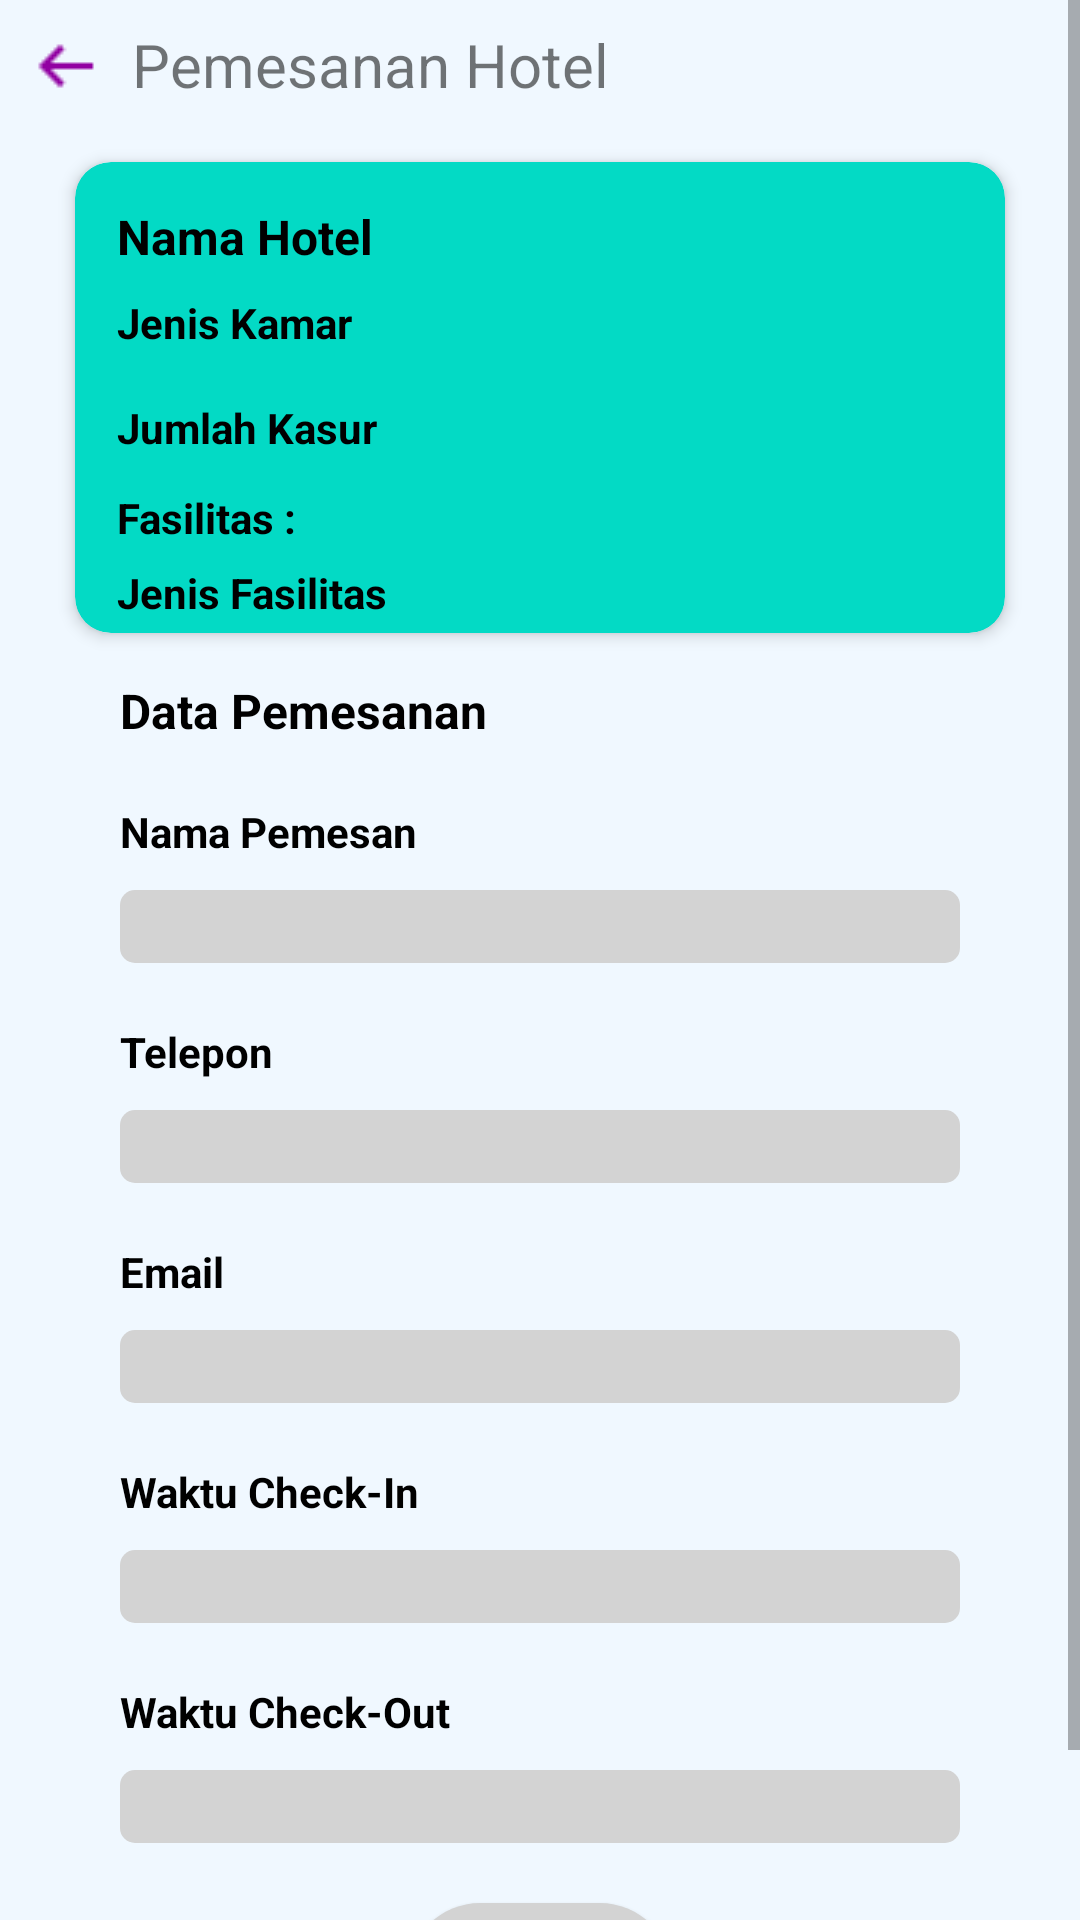

Named icons in this screenshot (1080px×1920px) and their centers, (x,y):
back: (66,66)
